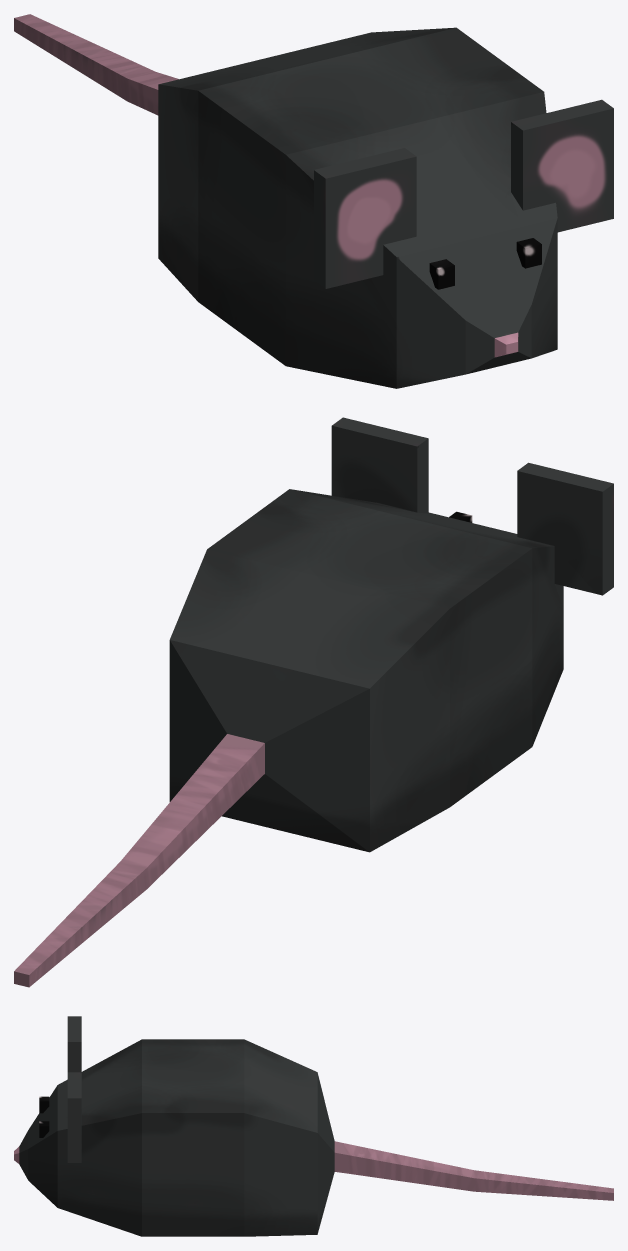
Rendered from rat.obj.
3 views of the same model, one above another, from view 1: azimuth 30°, elevation 25°; view 2: azimuth 150°, elevation 25°; view 3: azimuth 270°, elevation 25° (orthographic). The views are drawn at different scales.
Visible parts, largest first — view 1: Rato; view 2: Rato; view 3: Rato.
Part boxes in pixels (bbox=[...]): Rato: bbox=[14, 14, 613, 388]; Rato: bbox=[14, 417, 613, 987]; Rato: bbox=[14, 1016, 613, 1236].
Size of the model in its own units: 0.2046 by 0.1678 by 0.6307.
1 material, 1 textured.
